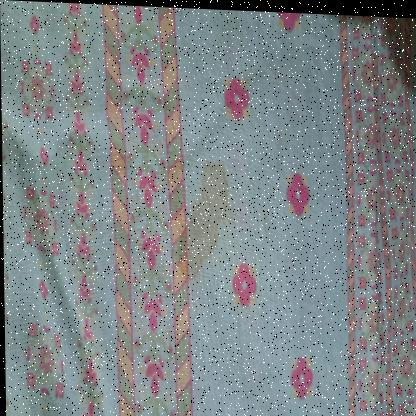spot: (163, 148, 238, 291)
